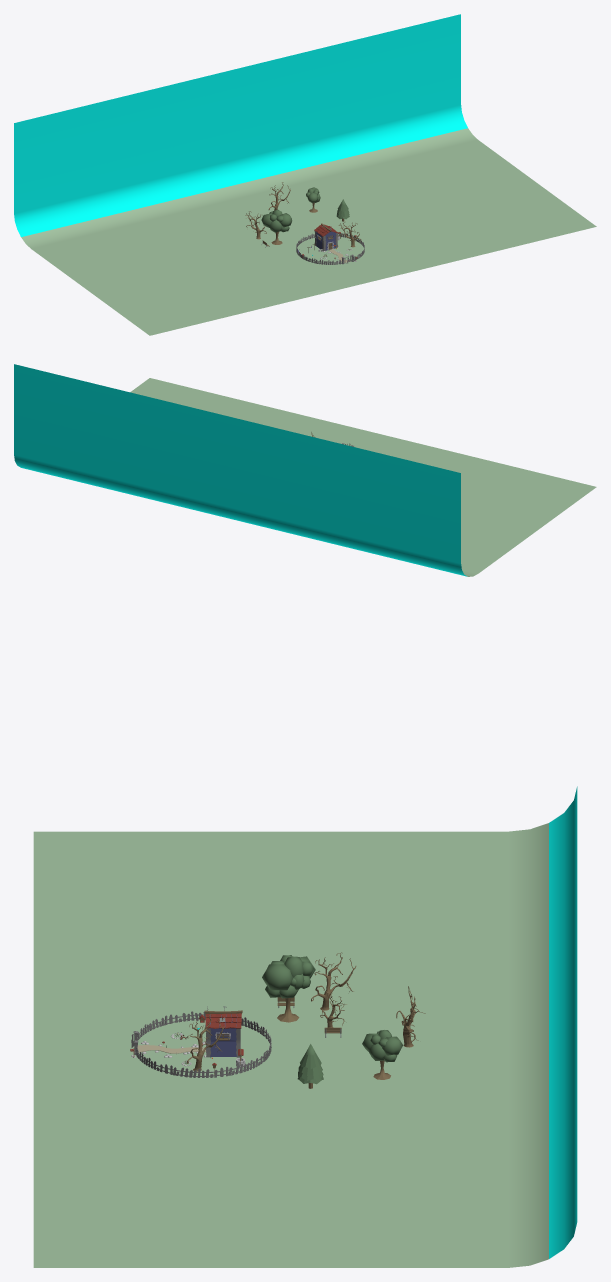
Rendered from home.glb.
3 renders of one model, top to bottom at view 1: azimuth 30°, elevation 25°; view 2: azimuth 150°, elevation 25°; view 3: azimuth 270°, elevation 25°, orthographic. The views are drawn at different scales.
Parts seen in each view (by area): view 1: limbo, albero_grande, staccionata_horror; view 2: limbo; view 3: limbo, albero_grande, staccionata_horror, albero_piccolo.
Boxes of the visible parts, box(x1,y1,x2,y2) form: limbo: box(14, 14, 596, 335); albero_grande: box(261, 209, 292, 244); staccionata_horror: box(296, 233, 364, 264); limbo: box(14, 364, 596, 576); limbo: box(33, 786, 577, 1267); albero_grande: box(262, 955, 315, 1022); staccionata_horror: box(136, 1011, 271, 1077); albero_piccolo: box(362, 1030, 402, 1079).
Bounding box in the file's own units: 2.32 × 0.5669 × 1.22.
